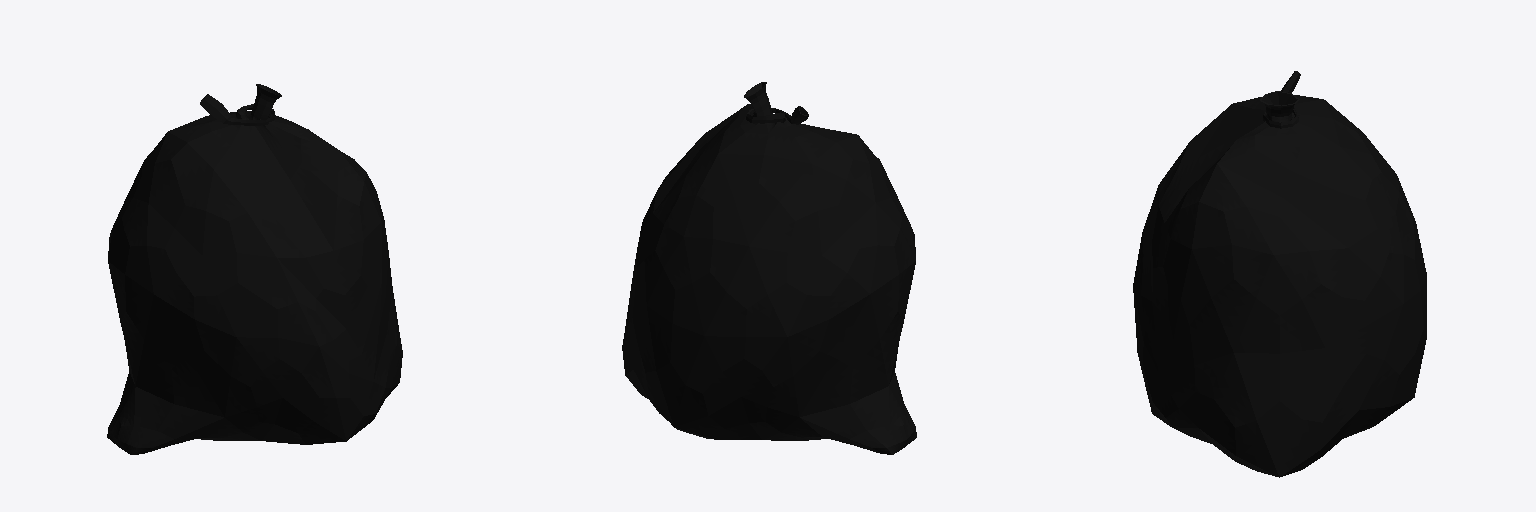
File: trash.obj
3 renders of one model, left to right at view 1: azimuth 30°, elevation 25°; view 2: azimuth 150°, elevation 25°; view 3: azimuth 270°, elevation 25°, orthographic.
Visible parts, largest first — view 1: Icosphere; view 2: Icosphere; view 3: Icosphere.
Boxes of the visible parts, x1=… form: Icosphere: x1=107, y1=84, x2=402, y2=454; Icosphere: x1=622, y1=82, x2=916, y2=454; Icosphere: x1=1133, y1=71, x2=1426, y2=477.
Size of the model in its own units: 8.6 by 9.9 by 7.88.